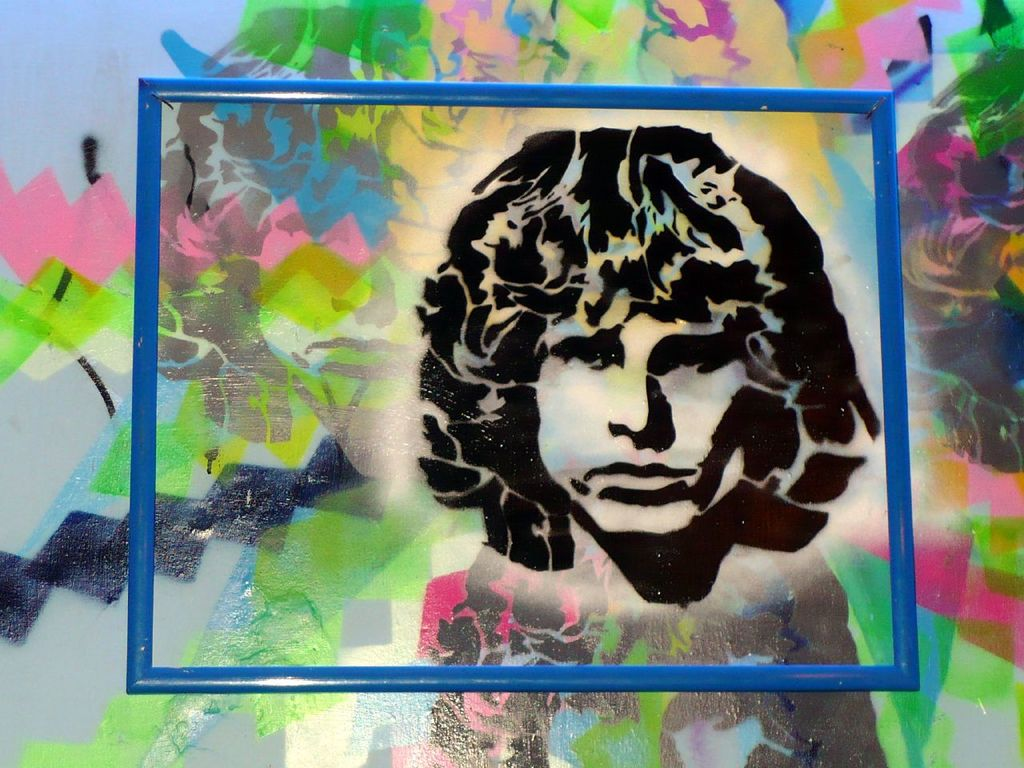Person: (417, 123, 881, 603)
